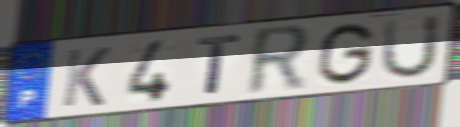4: (125, 38, 174, 105)
G: (315, 20, 377, 87)
K: (59, 45, 113, 110)
R: (244, 22, 315, 100)
T: (196, 32, 244, 98)
U: (378, 12, 443, 82)
